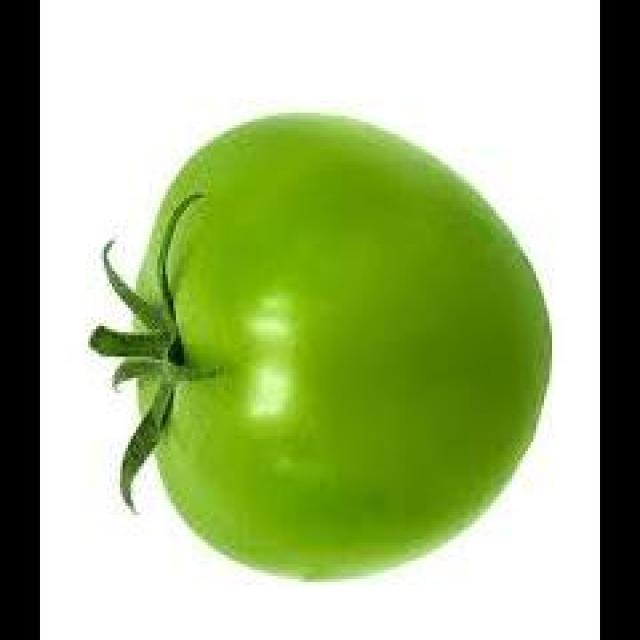Tomato: (121, 104, 565, 586)
